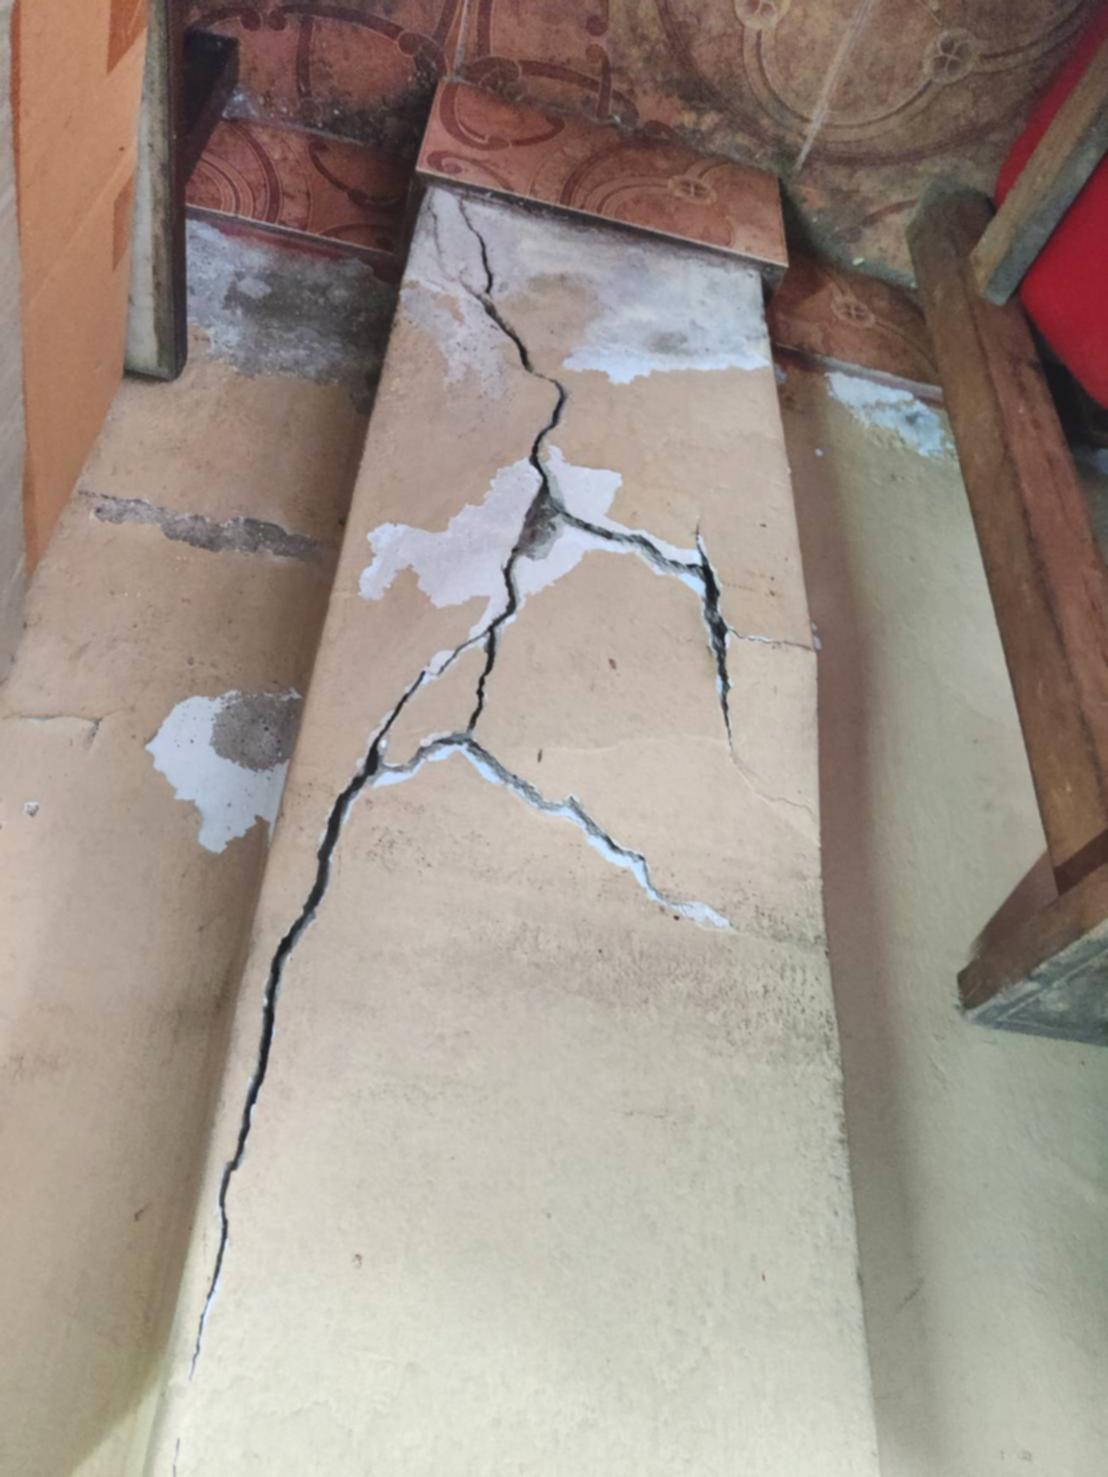High: (190, 163, 823, 1477)
